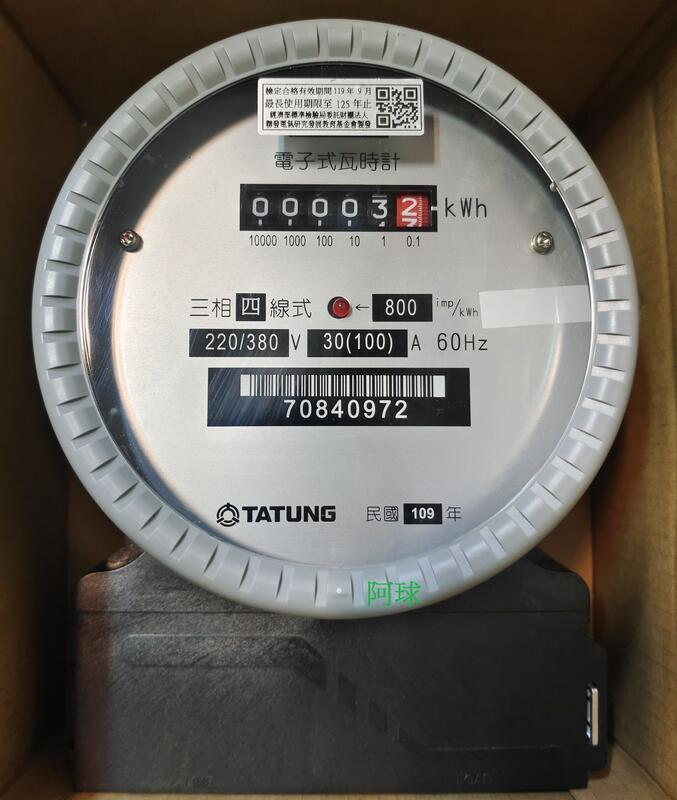show: (238, 182, 442, 237)
